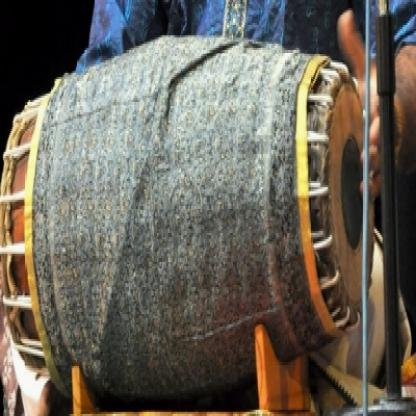Mridangam: (1, 33, 379, 388)
